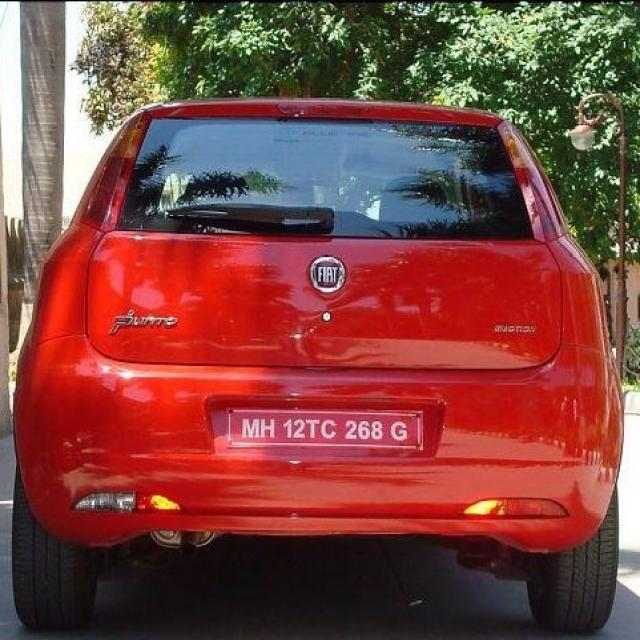Number-Plate: (231, 410, 417, 446)
